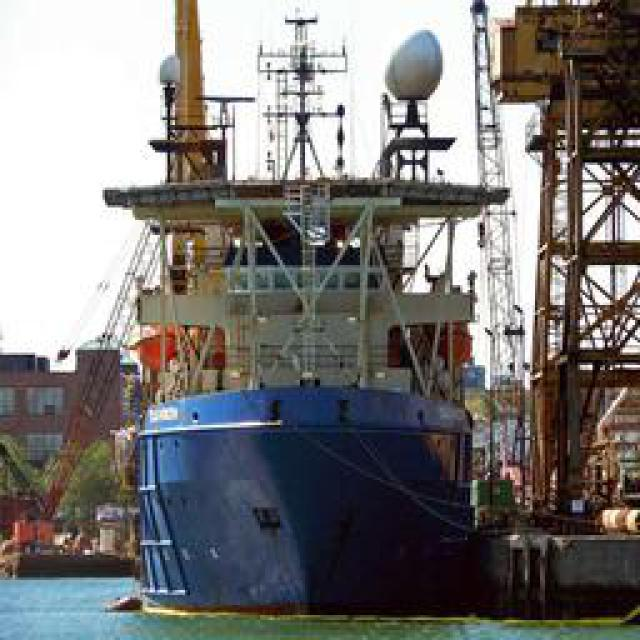Ship: (94, 91, 497, 626)
